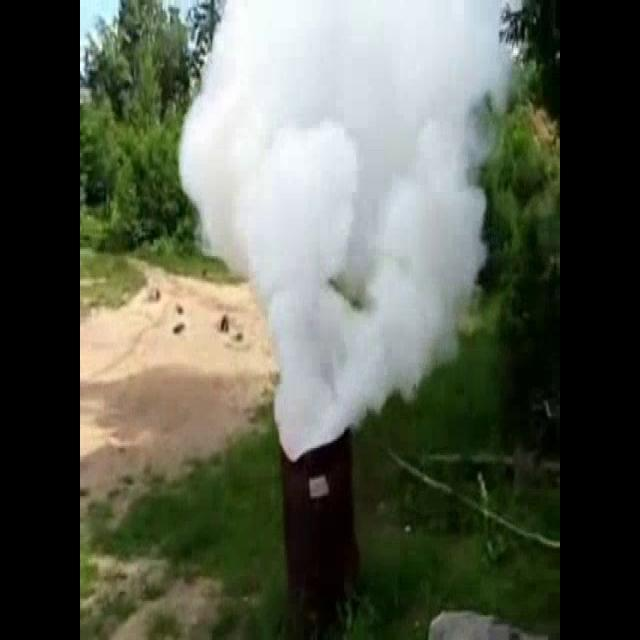Smoke: (176, 0, 516, 460)
